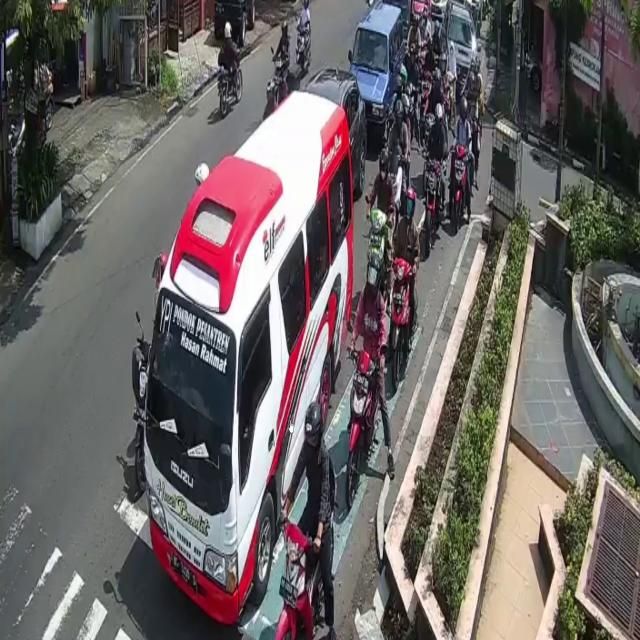bus: (285, 501, 332, 640), (349, 347, 380, 502), (363, 209, 390, 312), (394, 252, 411, 387), (425, 158, 443, 261), (216, 46, 243, 110), (452, 143, 468, 227), (272, 53, 290, 109), (296, 22, 314, 74)
car: (150, 90, 356, 619)
motorcycle: (351, 0, 407, 144), (312, 62, 370, 184), (443, 3, 479, 97)
